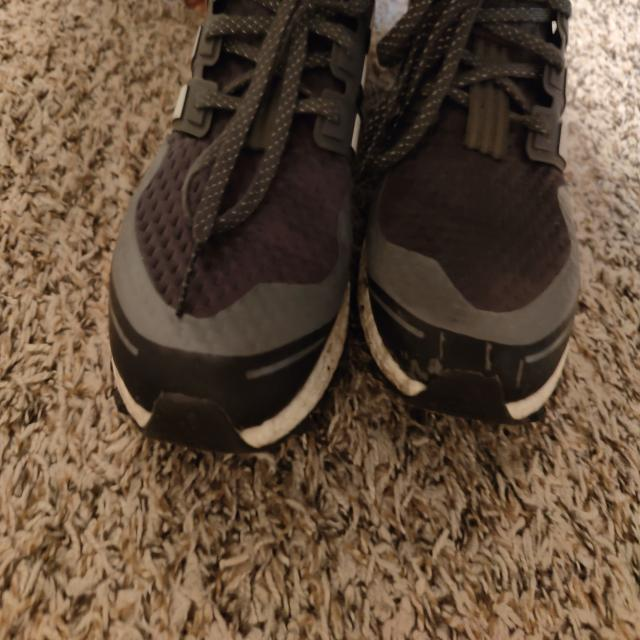black shoes: (115, 0, 580, 435)
